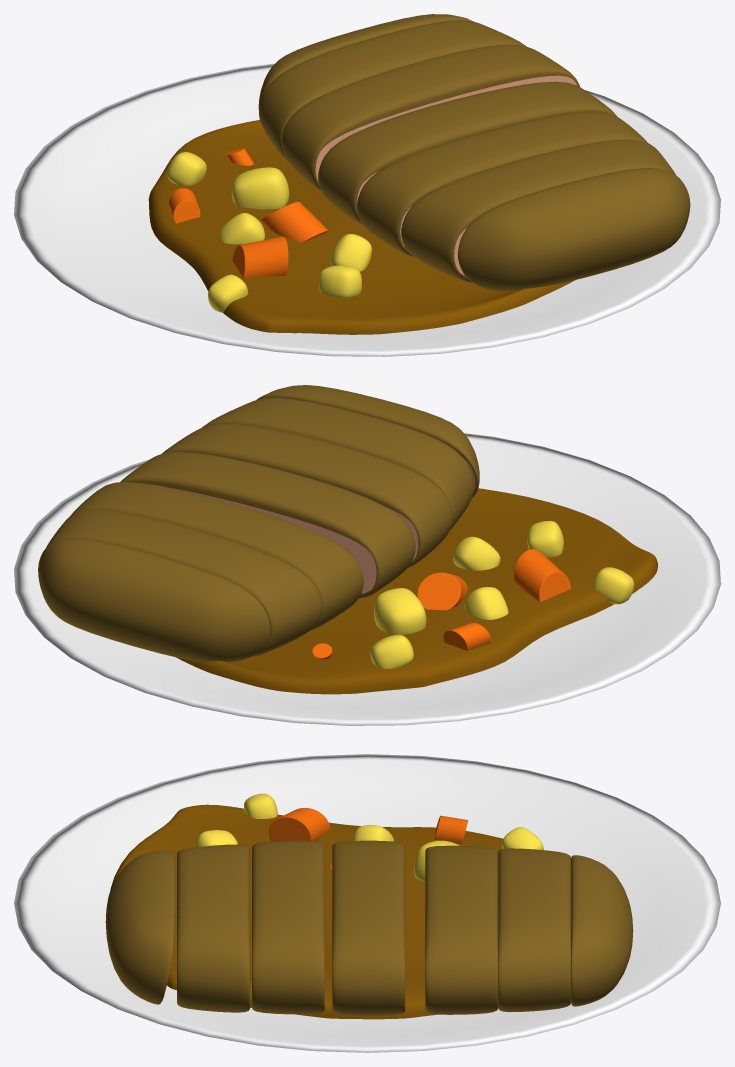
File: katsu_curry.glb
The picture shows the model from 3 angles, top to bottom: view 1: azimuth 30°, elevation 25°; view 2: azimuth 150°, elevation 25°; view 3: azimuth 270°, elevation 25°; orthographic projection.
Parts seen in each view (by area): view 1: plate9, curry, katsu_1, katsu_5, katsu_4, katsu_3, katsu_2, katsu_6, katsu_7, potato_3, cut_Carrot1, cut_Carrot2 (+6 smaller); view 2: plate9, curry, katsu_7, katsu_4, katsu_3, katsu_6, katsu_5, katsu_2, katsu_1, potato_3, cut_Carrot1, cut_Carrot2 (+6 smaller); view 3: plate9, katsu_4, katsu_3, katsu_5, curry, katsu_2, katsu_6, katsu_1, katsu_7, cut_Carrot1, cut_Carrot, potato_4 (+4 smaller).
Boxes of the visible parts, box(x1,y1,x2,y2) form: plate9: box(14, 63, 720, 356); curry: box(148, 120, 575, 334); katsu_1: box(458, 168, 690, 291); katsu_5: box(281, 44, 579, 190); katsu_4: box(318, 81, 617, 225); katsu_3: box(357, 111, 647, 257); katsu_2: box(401, 139, 675, 282); katsu_6: box(259, 20, 526, 160); katsu_7: box(258, 14, 474, 109); potato_3: box(231, 167, 289, 209); cut_Carrot1: box(232, 236, 288, 277); cut_Carrot2: box(260, 201, 328, 242); plate9: box(14, 433, 720, 725); curry: box(176, 488, 657, 694); katsu_7: box(38, 538, 270, 661); katsu_4: box(120, 452, 415, 598); katsu_3: box(162, 423, 452, 567); katsu_6: box(46, 509, 322, 656); katsu_5: box(70, 482, 363, 630); katsu_2: box(202, 398, 474, 530); katsu_1: box(256, 385, 479, 497); potato_3: box(374, 588, 426, 634); cut_Carrot1: box(514, 549, 571, 601); cut_Carrot2: box(417, 572, 467, 610); plate9: box(14, 754, 720, 1052); katsu_4: box(332, 840, 405, 1015); katsu_3: box(252, 840, 324, 1014); katsu_5: box(425, 845, 498, 1014); curry: box(110, 804, 502, 1019); katsu_2: box(177, 844, 249, 1012); katsu_6: box(498, 848, 570, 1012); katsu_1: box(105, 850, 175, 1004); katsu_7: box(571, 855, 633, 1006); cut_Carrot1: box(269, 807, 330, 841); cut_Carrot: box(434, 815, 468, 843); potato_4: box(244, 793, 277, 818).
Size of the model in its own units: 1.68 by 0.2596 by 1.68.
